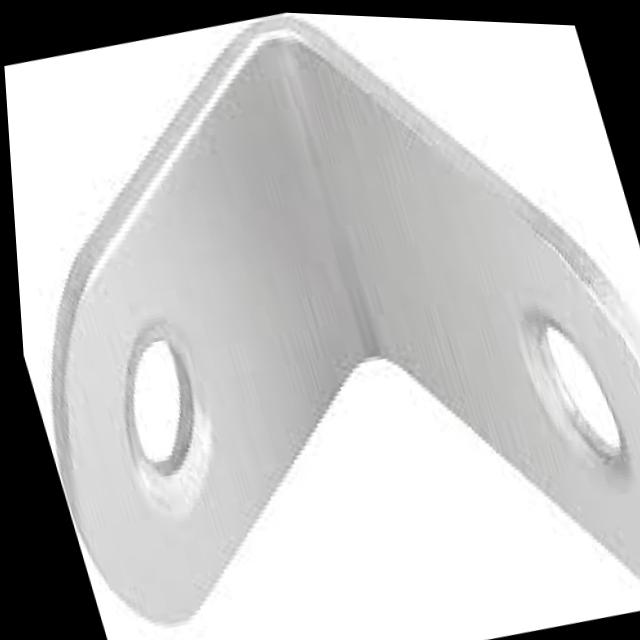holes: (3, 10, 640, 640), (90, 310, 233, 521), (507, 291, 626, 468)
